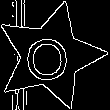O_N: (26, 30, 74, 82)
